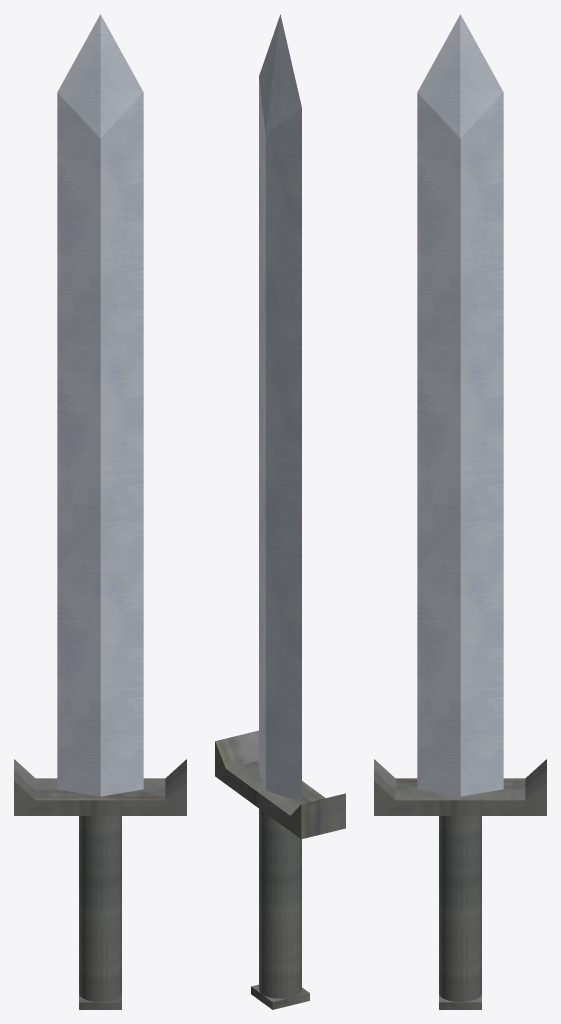
Rendered from mec.obj.
3 views of the same model, side by side, from view 1: azimuth 90°, elevation 25°; view 2: azimuth 210°, elevation 25°; view 3: azimuth 270°, elevation 25° (orthographic).
Visible parts, largest first — view 1: mec_Main-Metal_Aluminum_Anodized, mec_Main-Metal_Seamed; view 2: mec_Main-Metal_Aluminum_Anodized, mec_Main-Metal_Seamed; view 3: mec_Main-Metal_Aluminum_Anodized, mec_Main-Metal_Seamed.
Boxes of the visible parts, <box> form: mec_Main-Metal_Aluminum_Anodized: <box>57,14,143,796</box>; mec_Main-Metal_Seamed: <box>14,759,186,1009</box>; mec_Main-Metal_Aluminum_Anodized: <box>259,14,301,802</box>; mec_Main-Metal_Seamed: <box>215,730,345,1009</box>; mec_Main-Metal_Aluminum_Anodized: <box>417,14,503,796</box>; mec_Main-Metal_Seamed: <box>374,759,546,1009</box>.
Bounding box in the file's own units: 0.06 × 1.26 × 0.2.
Materials: 3 (2 with a texture image).
